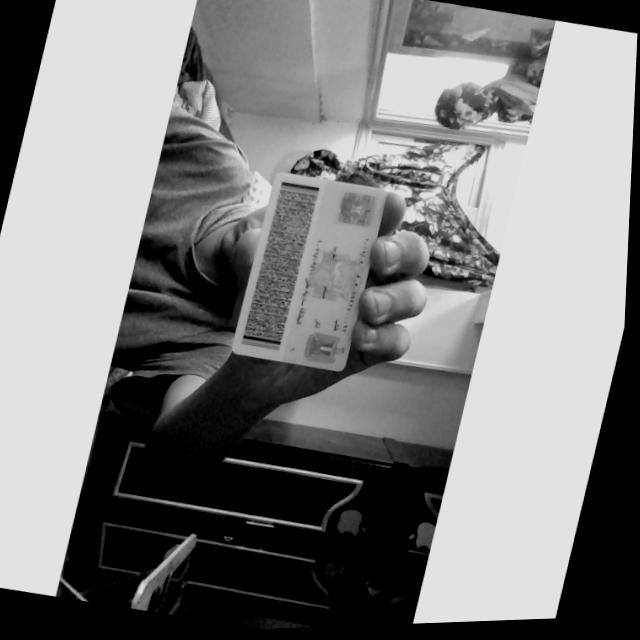back: (234, 173, 387, 370)
